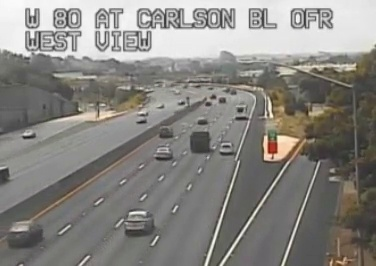car: (7, 222, 43, 245), (124, 210, 153, 232), (153, 147, 172, 160), (159, 126, 173, 139), (219, 142, 233, 155)
